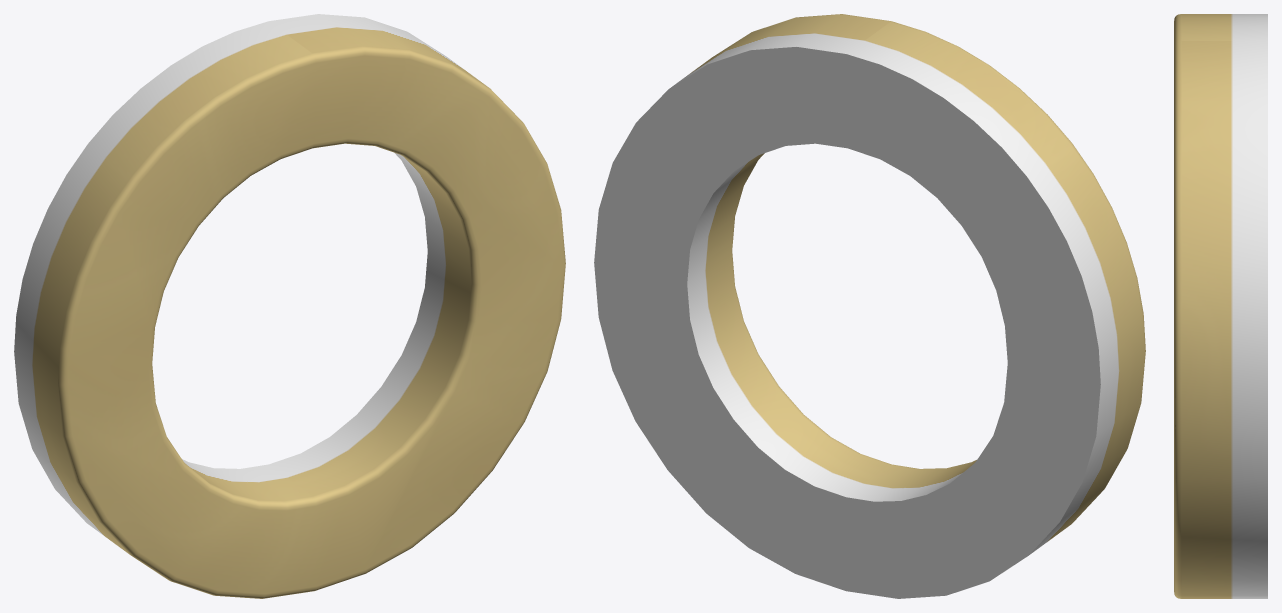
The model's file is LettersLightUp01_O.FBX.
3 renders of one model, left to right at view 1: azimuth 30°, elevation 25°; view 2: azimuth 150°, elevation 25°; view 3: azimuth 270°, elevation 25°, orthographic.
Parts seen in each view (by area): view 1: LettersLightUp01_O; view 2: LettersLightUp01_O; view 3: LettersLightUp01_O.
Part boxes in pixels (x1=…): LettersLightUp01_O: x1=14, y1=14, x2=565, y2=598; LettersLightUp01_O: x1=594, y1=14, x2=1145, y2=598; LettersLightUp01_O: x1=1174, y1=14, x2=1267, y2=598.
Size of what is drawn, in the model's own units: 0.6224 by 0.6305 by 0.1012.
